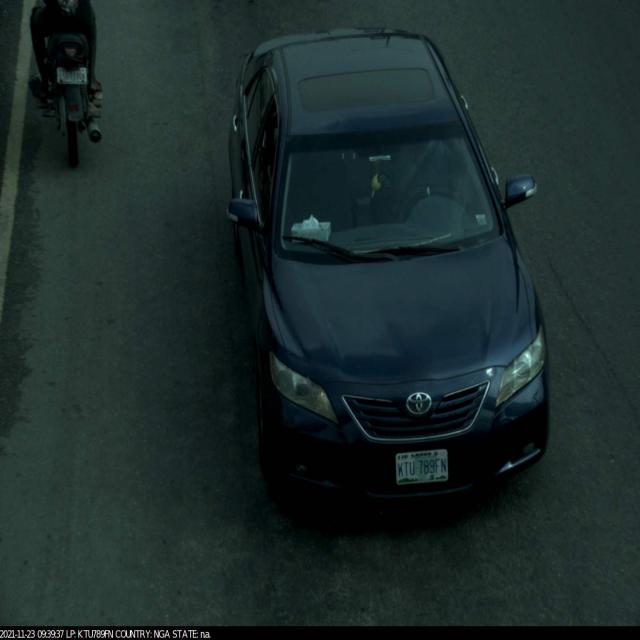windshield: (260, 121, 510, 270)
